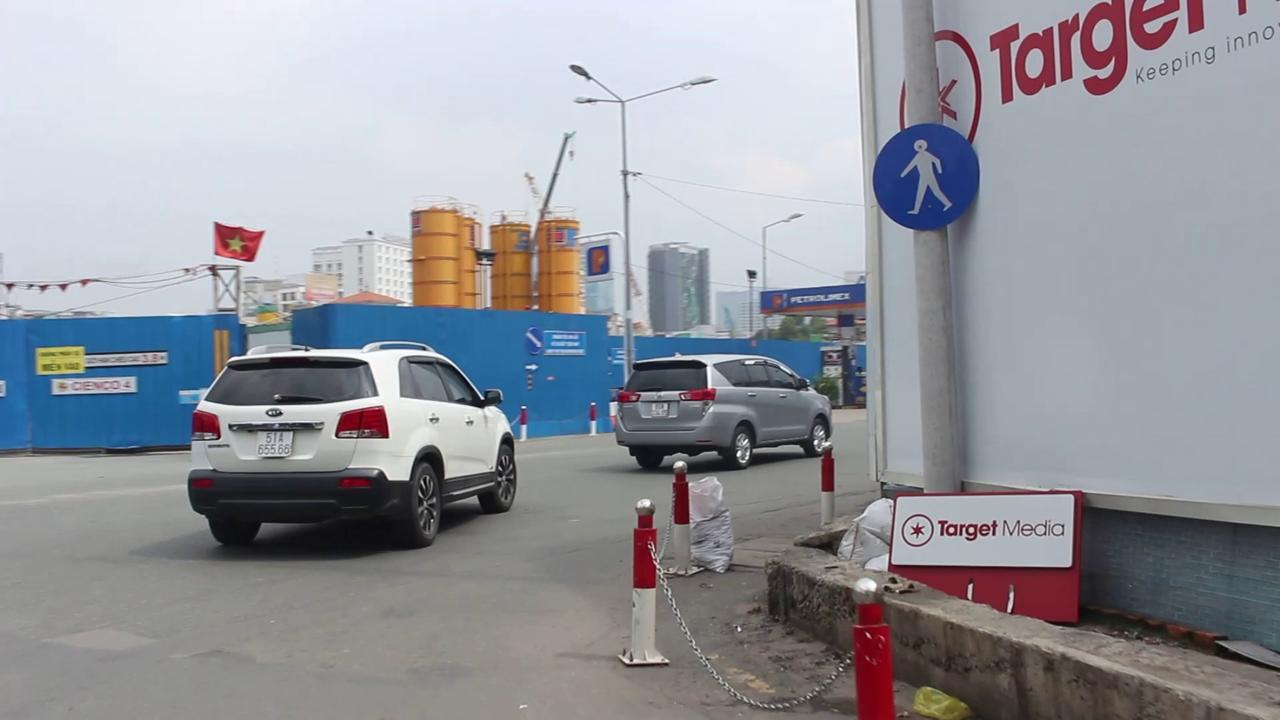P.123a: (871, 126, 980, 232)
